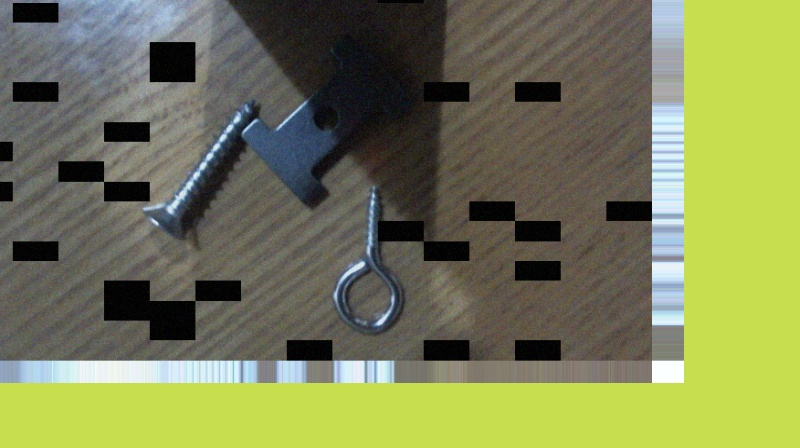O001: (326, 181, 408, 337)
O002: (238, 28, 415, 206)
S001: (136, 93, 259, 245)
